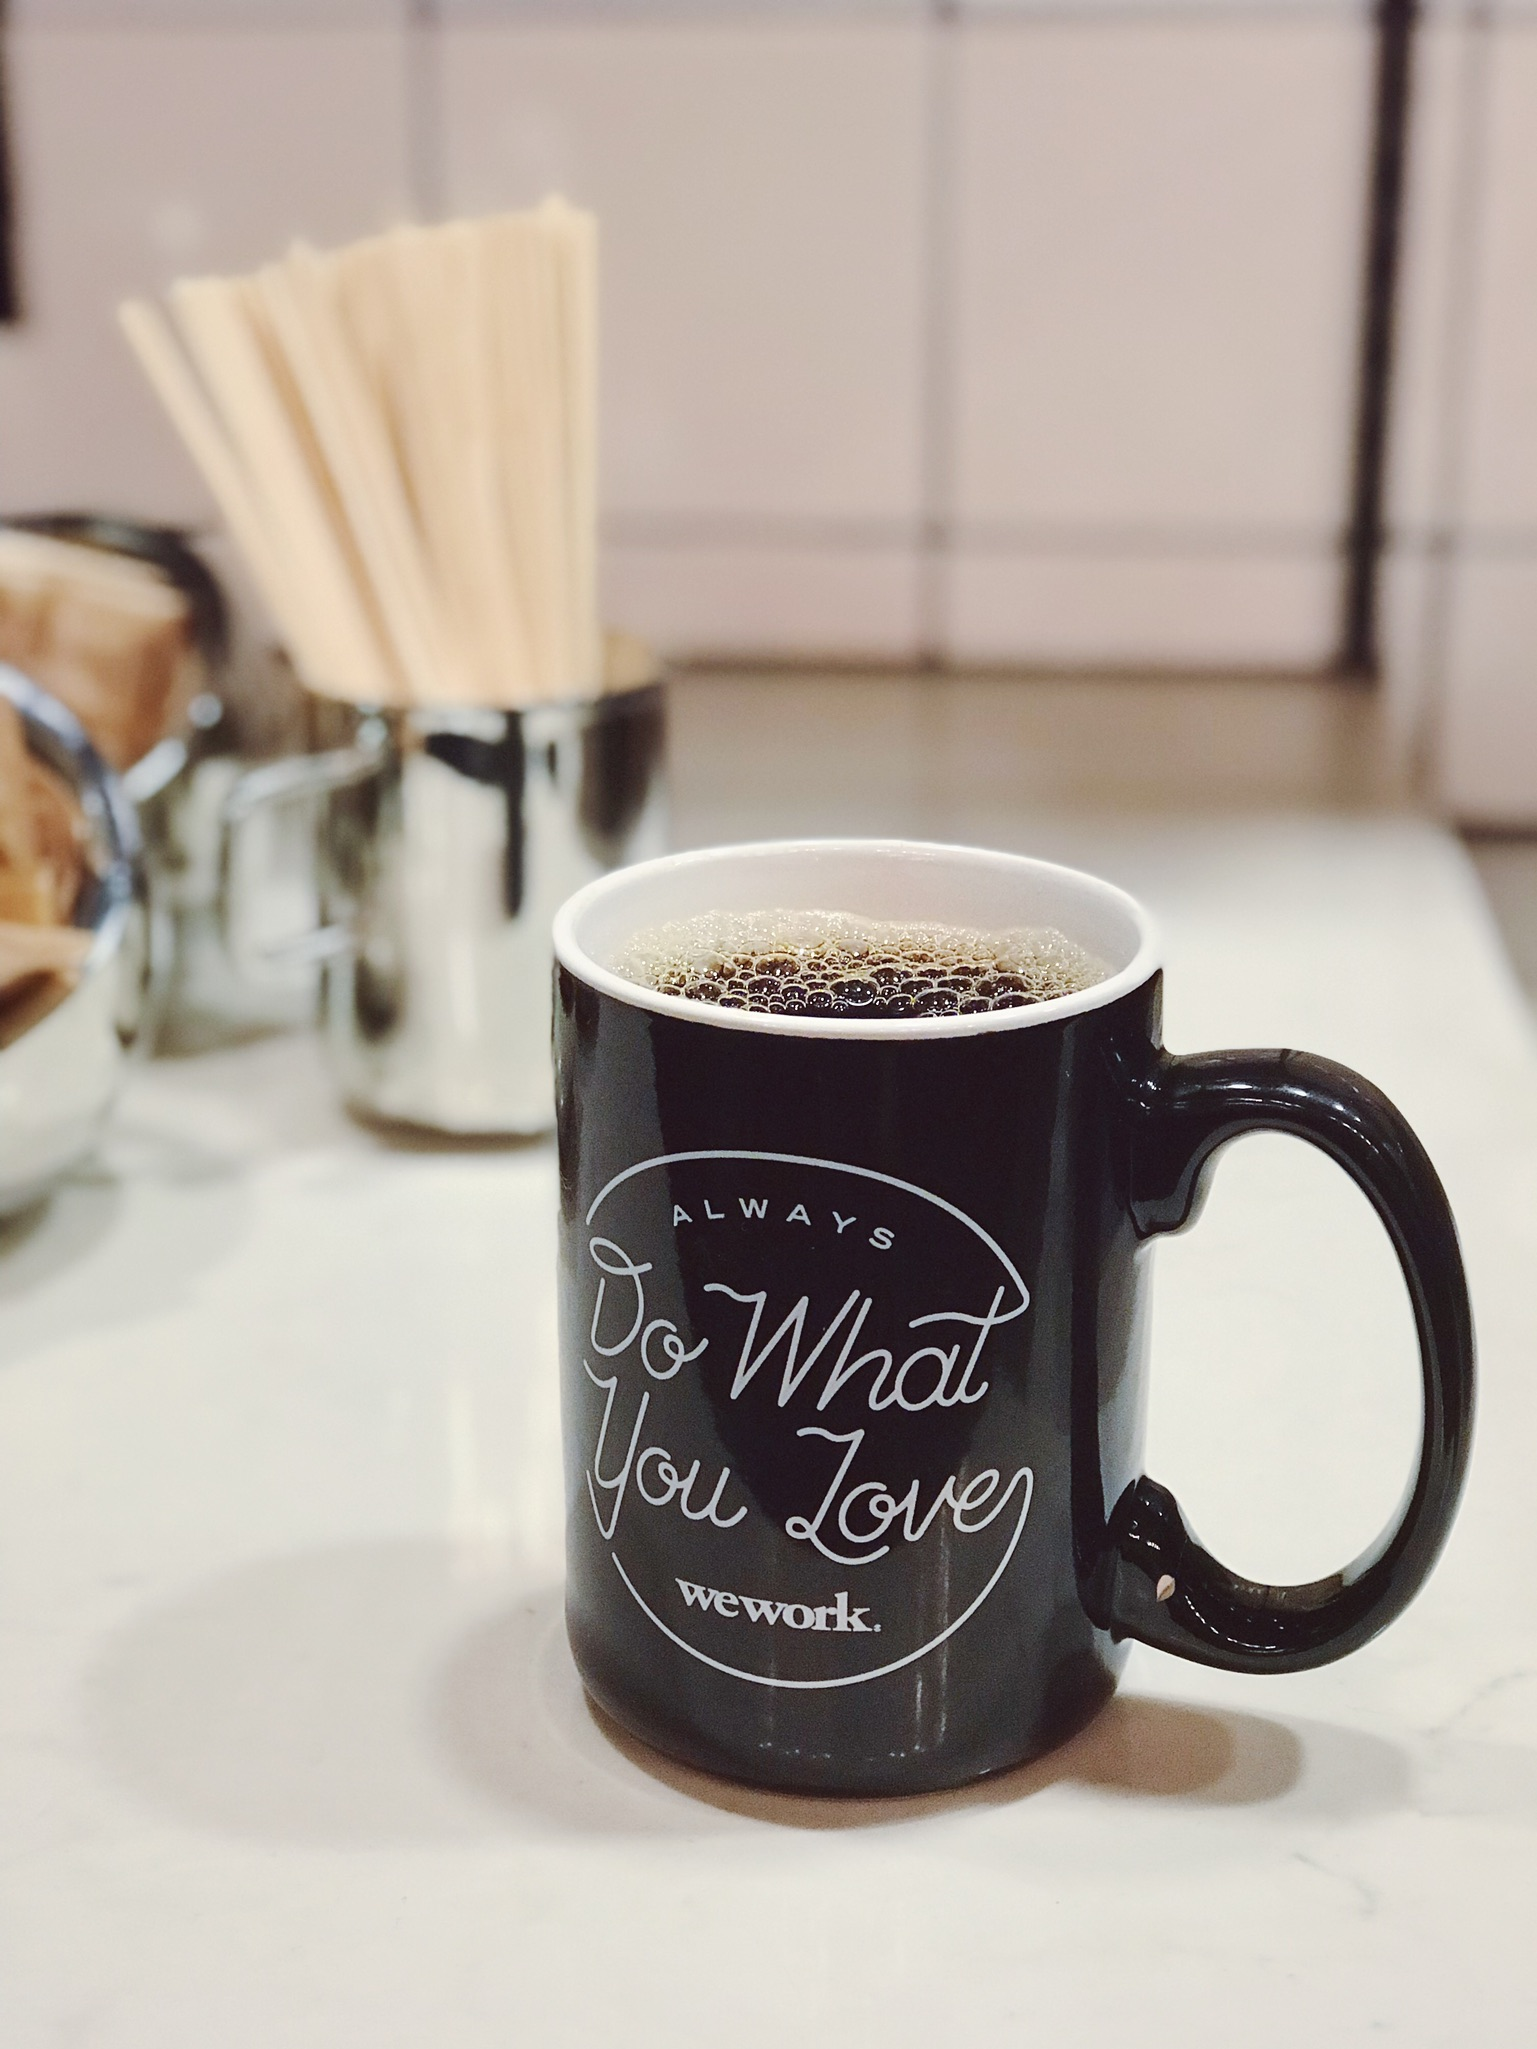wework: (668, 1569, 877, 1640)
